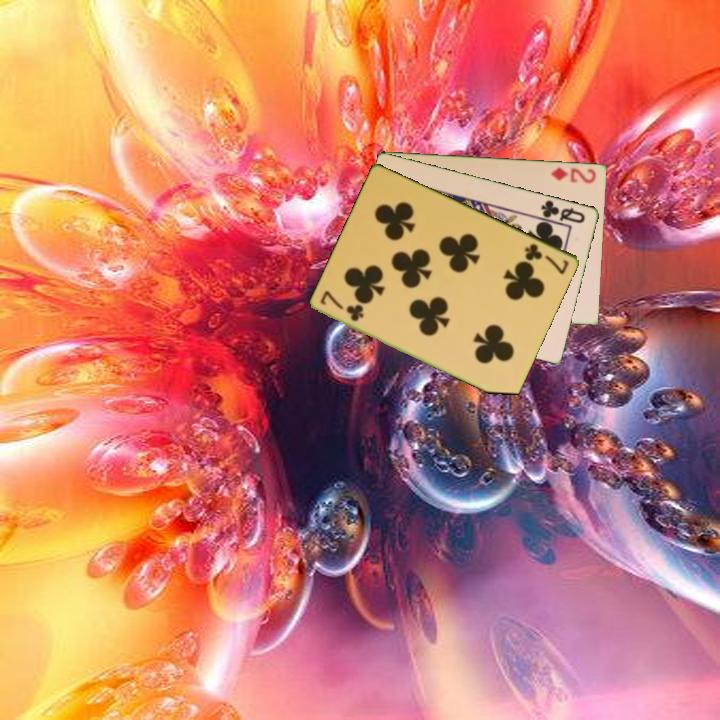2d: (548, 163, 599, 186)
7c: (521, 240, 572, 277), (317, 288, 367, 324)
Qc: (538, 196, 588, 226)
